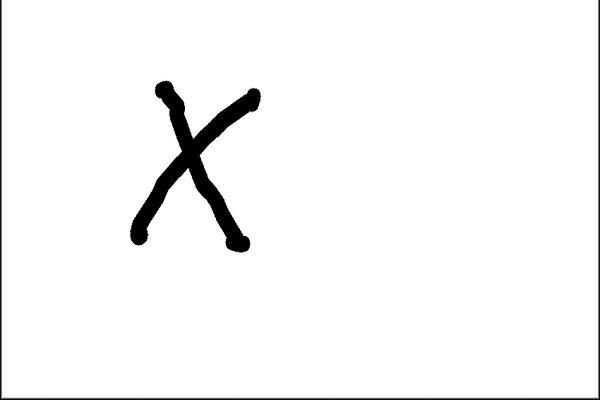X: (112, 68, 281, 272)
